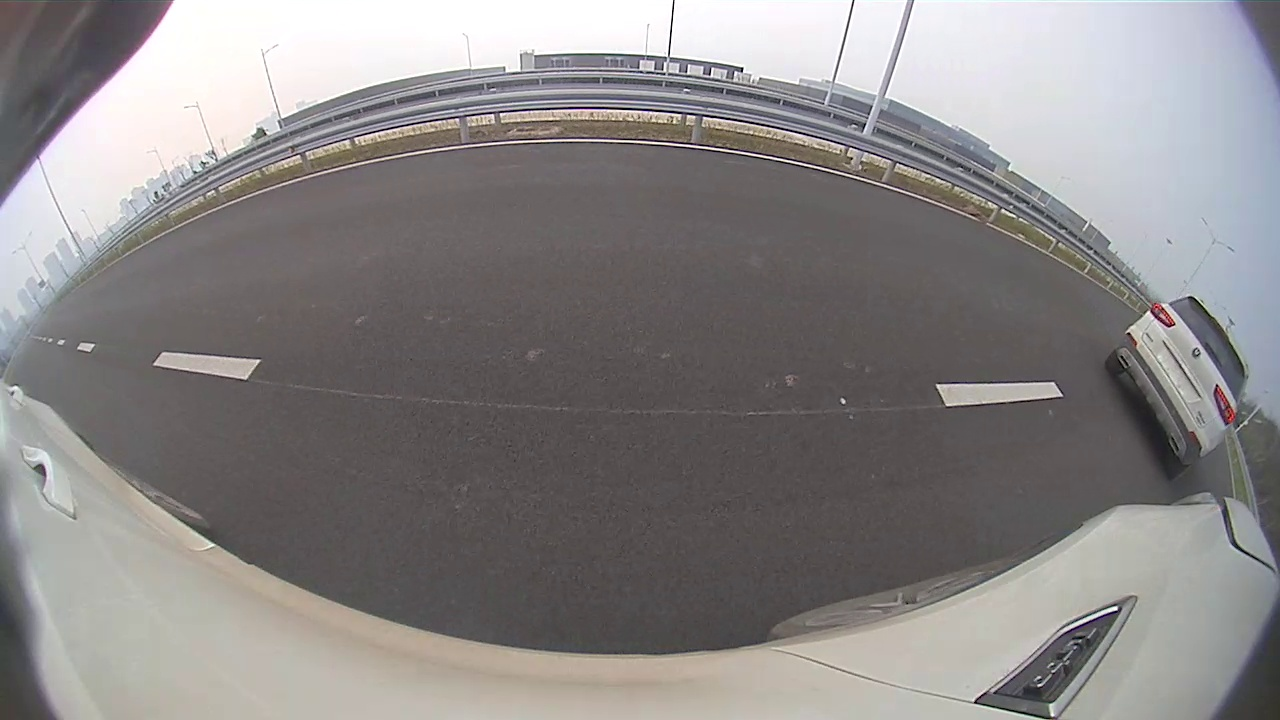car: (1104, 296, 1249, 482)
